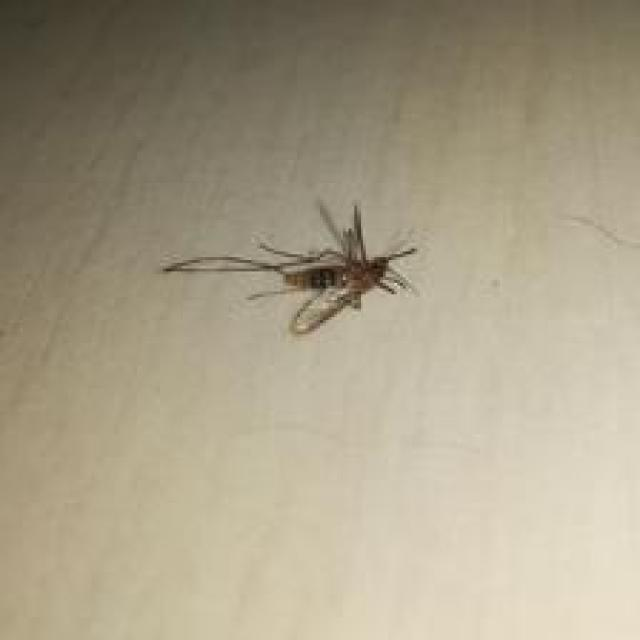Culex: (162, 198, 418, 336)
